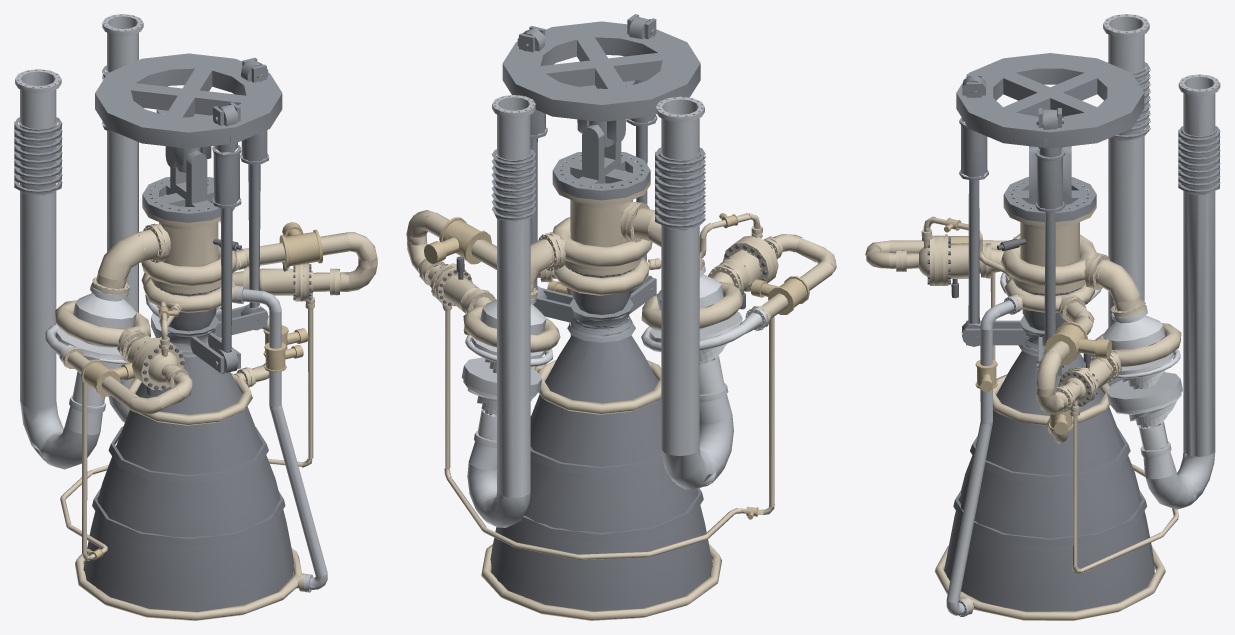
Rendered from cope-s1-engine.glb.
3 renders of one model, left to right at view 1: azimuth 30°, elevation 25°; view 2: azimuth 150°, elevation 25°; view 3: azimuth 270°, elevation 25°, orthographic. The views are drawn at different scales.
Parts seen in each view (by area): view 1: jacket, tvc, inconel, plumbing, steel, brass, dark; view 2: jacket, tvc, inconel, plumbing, steel, brass, dark; view 3: jacket, tvc, plumbing, inconel, steel, brass, dark.
Boxes of the visible parts, box(x1,y1,x2,y2) form: jacket: box(83, 290, 293, 611); tvc: box(14, 53, 282, 373); inconel: box(55, 194, 377, 620); plumbing: box(15, 14, 327, 592); steel: box(44, 284, 221, 409); brass: box(81, 222, 322, 560); dark: box(133, 238, 311, 395); jacket: box(490, 271, 712, 611); tvc: box(492, 14, 705, 342); inconel: box(406, 170, 836, 620); plumbing: box(461, 95, 733, 527); steel: box(463, 265, 768, 442); brass: box(424, 213, 809, 519); dark: box(430, 237, 776, 309); jacket: box(944, 290, 1154, 611); tvc: box(956, 53, 1220, 376); plumbing: box(946, 14, 1220, 616); inconel: box(865, 193, 1181, 620); steel: box(1000, 272, 1181, 452); brass: box(944, 218, 1111, 434); dark: box(927, 237, 1098, 406).
Bounding box in the file's own units: 3.01 × 4.36 × 2.8.
